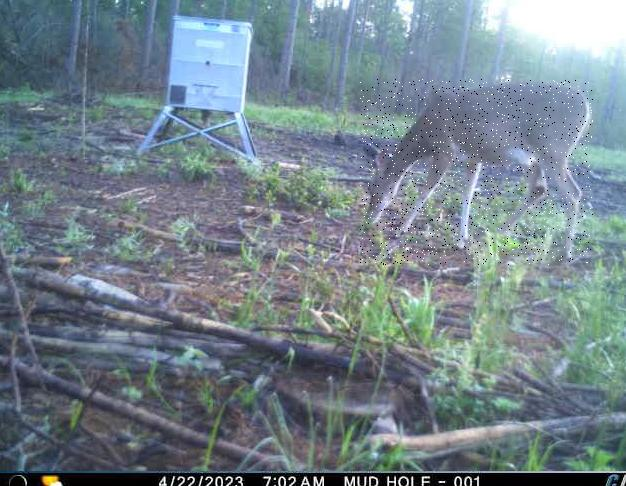Deer: (360, 79, 593, 265)
